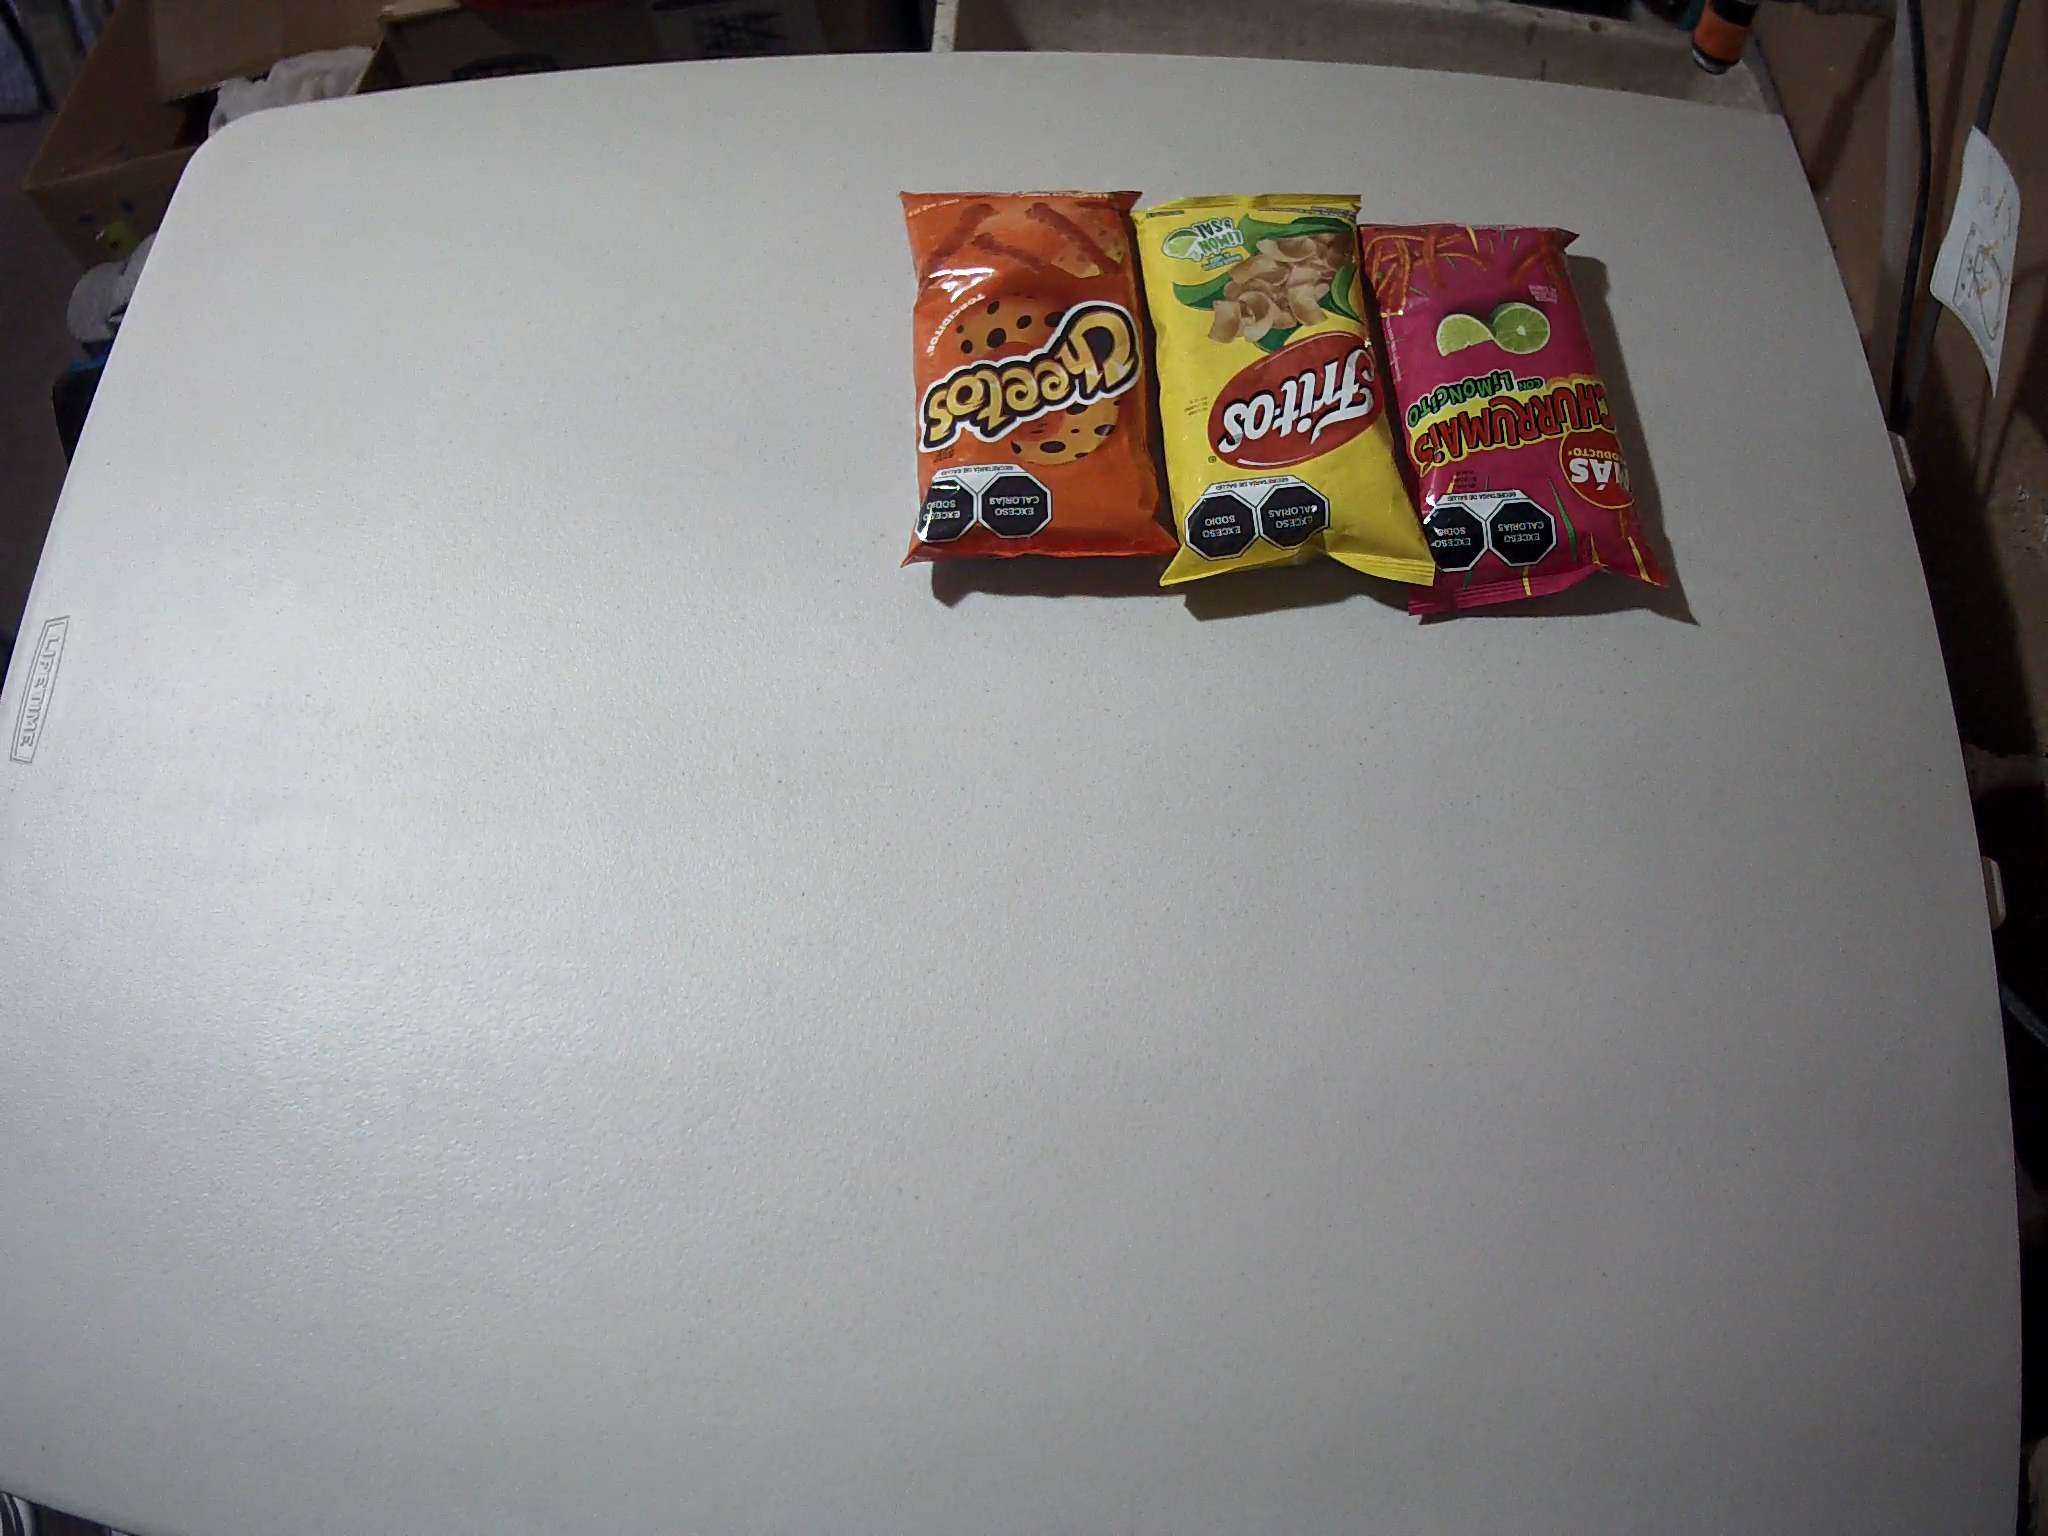CheetosTorciditos_55_F: (897, 190, 1179, 571)
Churrumais_70_F: (1353, 223, 1675, 618)
FritosSalLimon_65_F: (1122, 192, 1437, 592)
